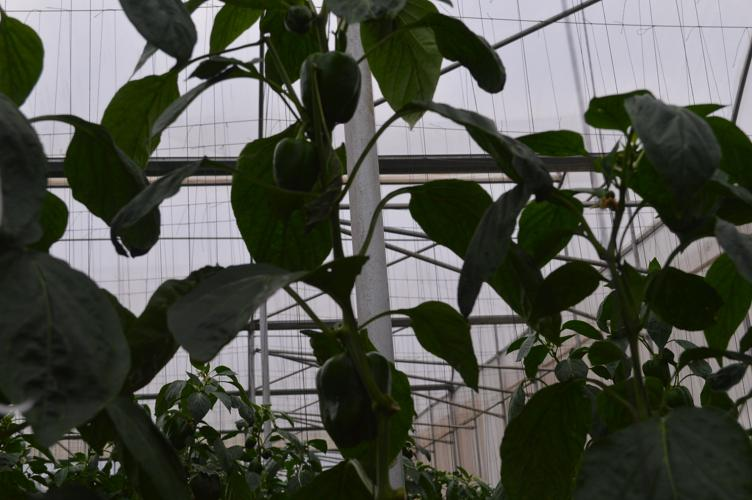BellPepper: (310, 341, 397, 449), (289, 40, 366, 130), (261, 129, 318, 197)
